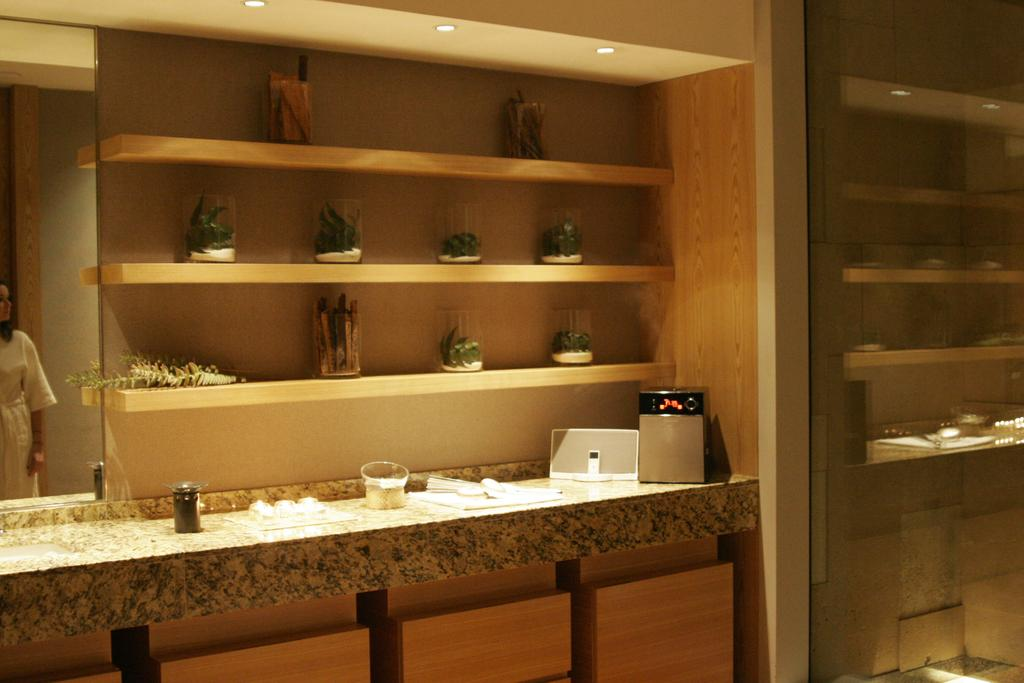Laptop: (548, 427, 639, 481)
